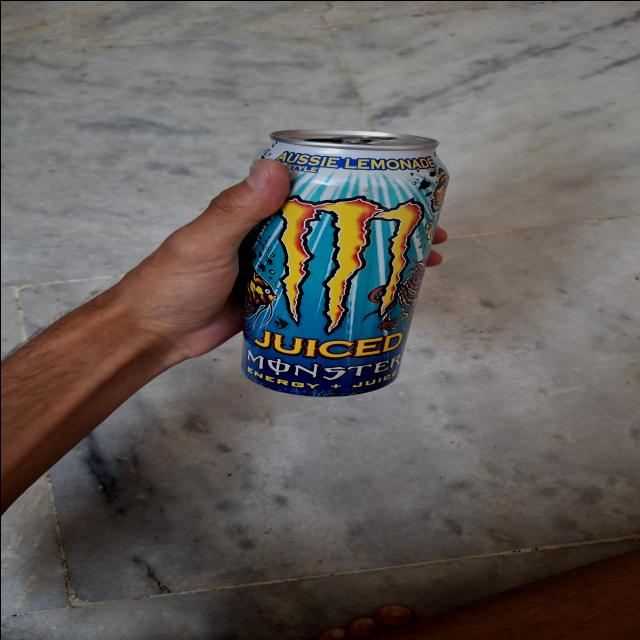Monster Aussie Lemonade: (256, 142, 435, 398)
